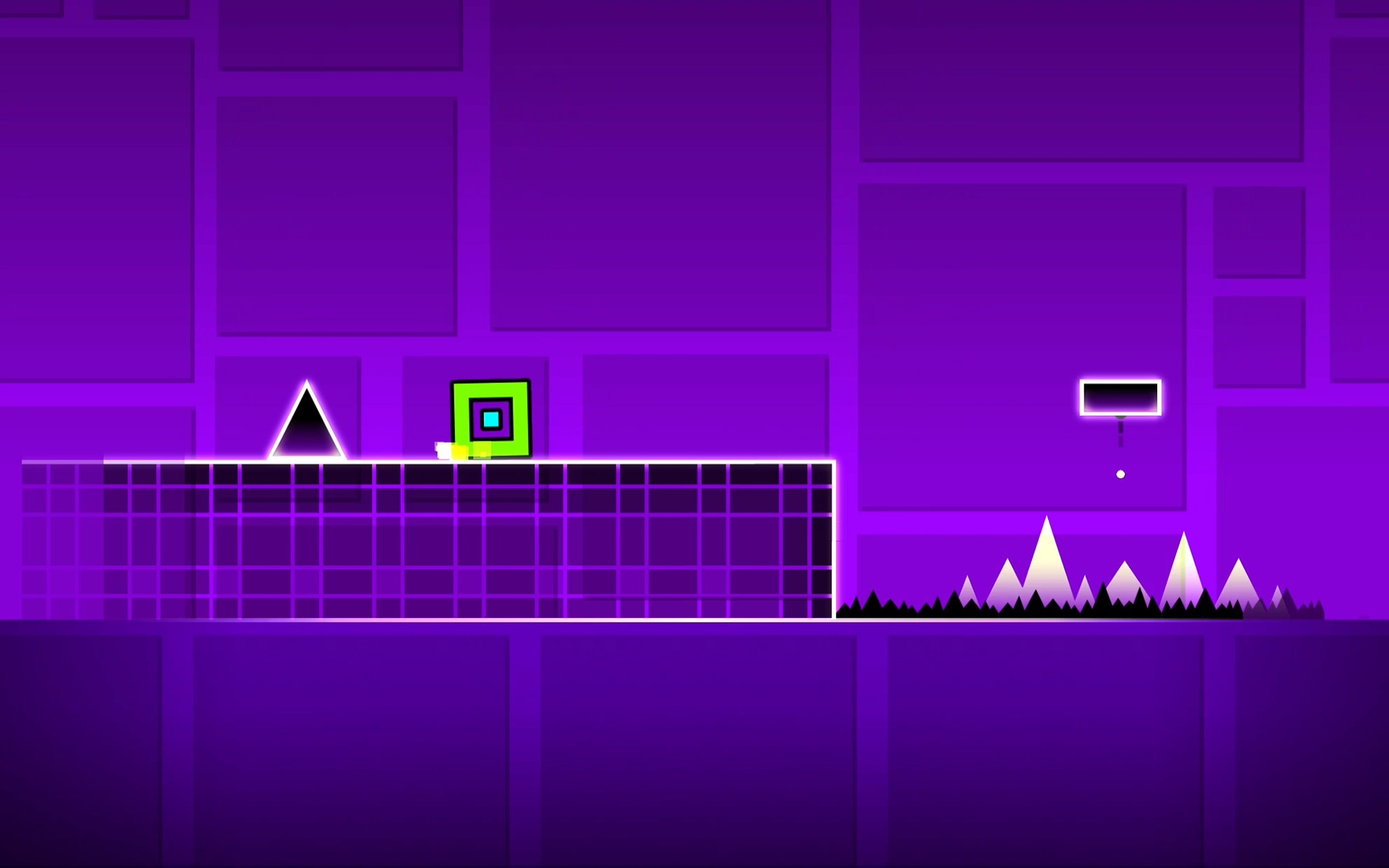Block2: (6, 458, 830, 610)
Block3: (1079, 378, 1160, 416)
Player: (449, 380, 530, 457)
Spike: (268, 380, 347, 459)
Spike3: (830, 582, 1357, 622)
